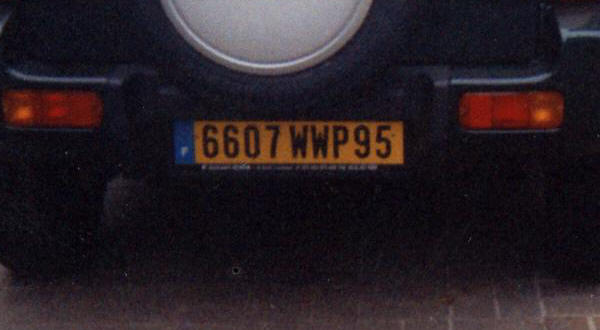license_plate: (172, 118, 405, 173)
